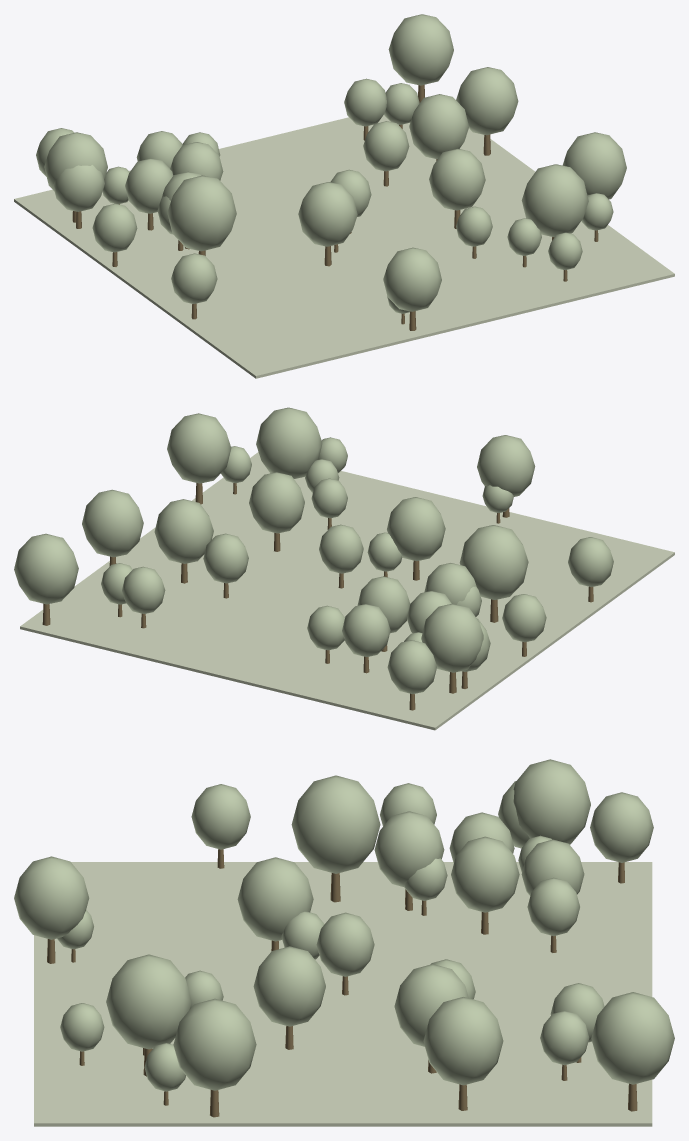
The picture shows the model from 3 angles, top to bottom: view 1: azimuth 30°, elevation 25°; view 2: azimuth 150°, elevation 25°; view 3: azimuth 270°, elevation 25°; orthographic projection. The views are drawn at different scales.
Parts seen in each view (by area): view 1: terrain, lod-near-7, lod-near-23, lod-near-17, lod-near-8, lod-near-5, lod-near-18, lod-near-27, lod-near-29, lod-near-2, lod-near-21, lod-near-25 (+15 smaller); view 2: terrain, lod-near-7, lod-near-23, lod-near-17, lod-near-29, lod-near-8, lod-near-21, lod-near-18, lod-near-5, lod-near-2, lod-near-27, lod-near-6 (+17 smaller); view 3: terrain, lod-near-7, lod-near-23, lod-near-17, lod-near-29, lod-near-8, lod-near-21, lod-near-27, lod-near-5, lod-near-2, lod-near-15, lod-near-10 (+17 smaller).
Part boxes in pixels (box(x1,y1,x2,y2)): terrain: box(14, 115, 674, 378); lod-near-7: box(167, 175, 236, 251); lod-near-23: box(521, 164, 588, 237); lod-near-17: box(388, 14, 453, 85); lod-near-8: box(456, 67, 518, 135); lod-near-5: box(298, 182, 357, 246); lod-near-18: box(409, 94, 468, 159); lod-near-27: box(383, 247, 441, 311); lod-near-29: box(562, 132, 626, 199); lod-near-2: box(429, 148, 485, 210); lod-near-21: box(44, 132, 107, 191); lod-near-25: box(125, 158, 173, 213); terrain: box(20, 452, 674, 730); lod-near-7: box(459, 525, 528, 599); lod-near-23: box(256, 407, 322, 478); lod-near-17: box(14, 533, 78, 604); lod-near-29: box(167, 413, 231, 483); lod-near-8: box(82, 489, 143, 557); lod-near-21: box(421, 603, 483, 672); lod-near-18: box(154, 499, 213, 563); lod-near-5: box(387, 497, 445, 561); lod-near-2: box(249, 472, 304, 533); lod-near-27: box(477, 435, 535, 496); lod-near-6: box(387, 640, 436, 694); terrain: box(34, 862, 652, 1126); lod-near-7: box(291, 775, 380, 873); lod-near-23: box(106, 954, 191, 1049); lod-near-17: box(591, 992, 674, 1084); lod-near-29: box(173, 998, 256, 1090); lod-near-8: box(423, 997, 503, 1085); lod-near-21: box(513, 759, 590, 844); lod-near-27: box(14, 856, 89, 939); lod-near-5: box(237, 857, 313, 941); lod-near-2: box(253, 946, 325, 1026); lod-near-15: box(451, 836, 519, 912); lod-near-10: box(374, 811, 444, 887).
Size of the model in its own units: 34.48 by 7.26 by 34.21.
